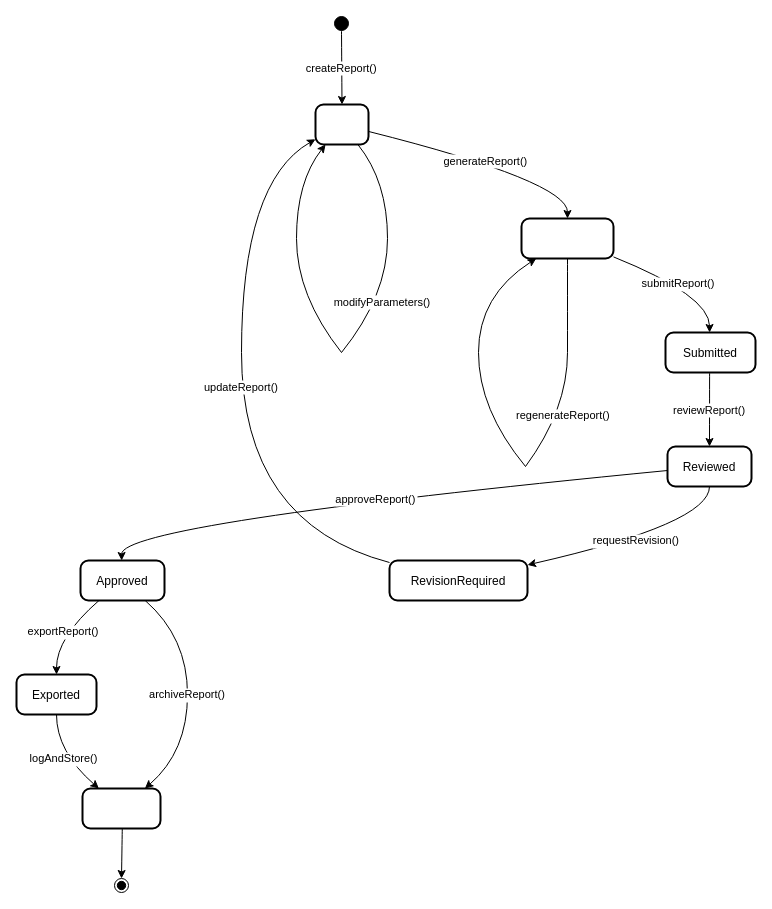
Some shapes in this 772 by 909 pixel diagram are drawn without their labels. The shapes that lost their labels are listed below. From the top down, each one's centre as x and y in pixels, then its label:
At (x=341, y=124): "Draft".
At (x=567, y=238): "Generated".
At (x=121, y=808): "Archived".
